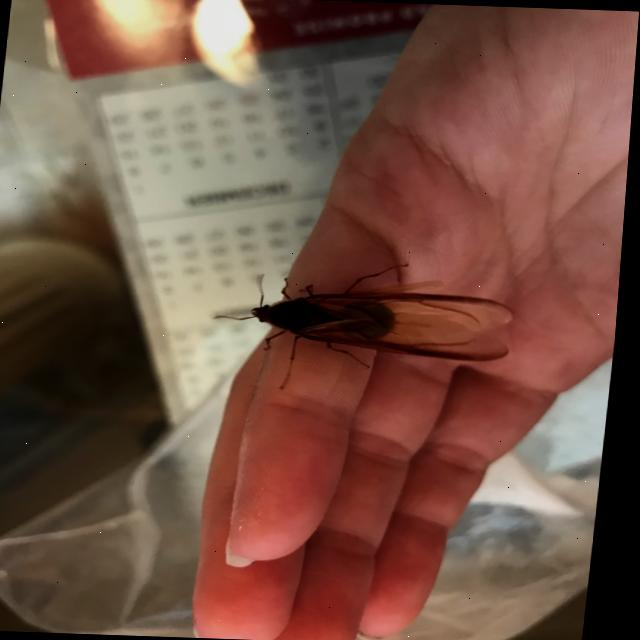Alive-Male-Alate: (210, 256, 524, 398)
